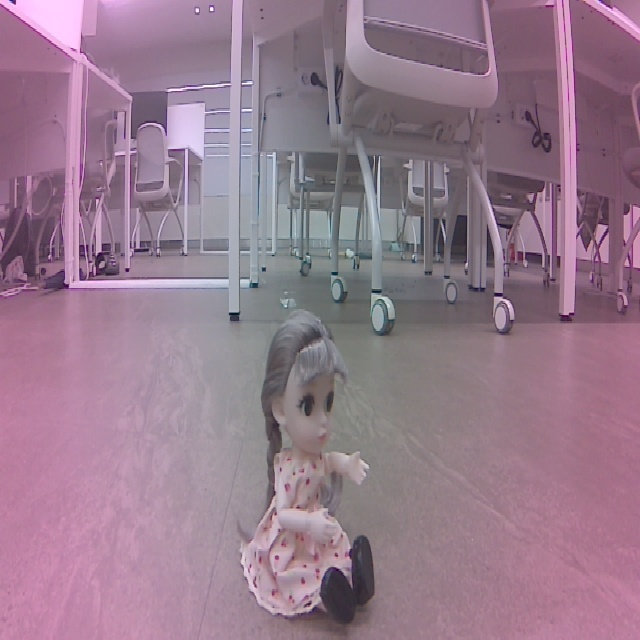장애물: (235, 308, 382, 631)
